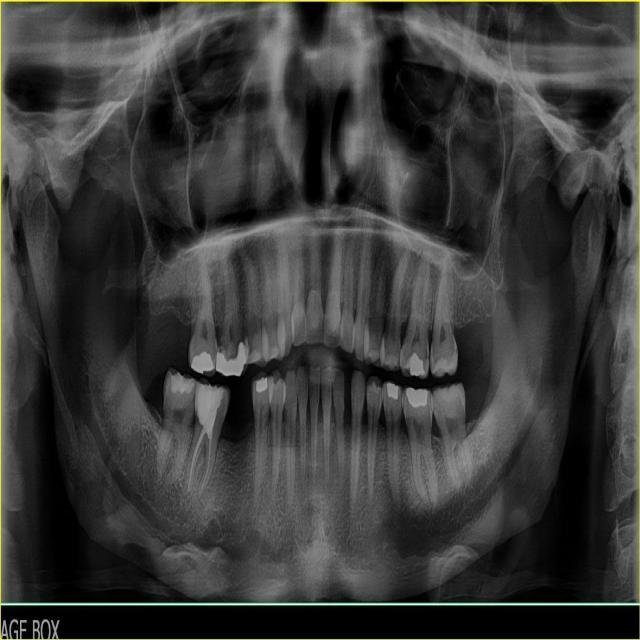74: (183, 425, 208, 495), (200, 438, 213, 492)
NucleOSS Implant: (216, 338, 247, 375), (404, 353, 429, 379), (188, 351, 214, 375), (405, 387, 428, 408), (386, 380, 401, 401), (256, 377, 267, 394)
Sterngold Implant: (435, 352, 447, 366), (424, 345, 429, 362), (452, 341, 458, 355)
Straumann Implant: (185, 381, 224, 439), (165, 372, 196, 399)
